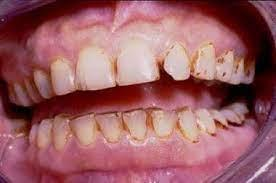Calculus: (114, 47, 163, 88), (158, 35, 195, 82), (148, 107, 182, 141), (94, 100, 125, 137), (190, 44, 221, 81), (178, 106, 203, 143), (198, 105, 224, 138), (54, 113, 79, 147), (216, 47, 239, 82), (126, 107, 149, 140), (75, 111, 100, 140)
